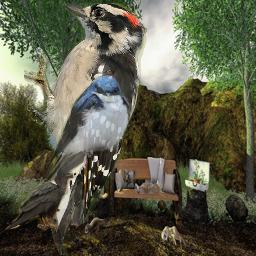Crow: (5, 170, 76, 232)
Swallow: (44, 74, 131, 182)
Woodpecker: (24, 3, 148, 255)
